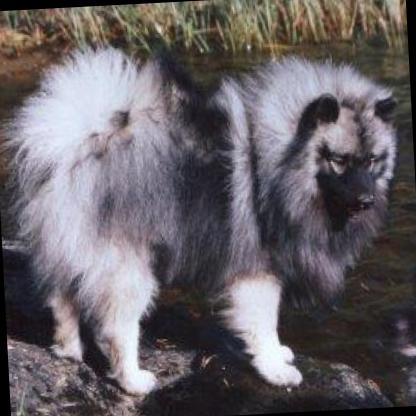keeshond: (0, 23, 413, 403)
